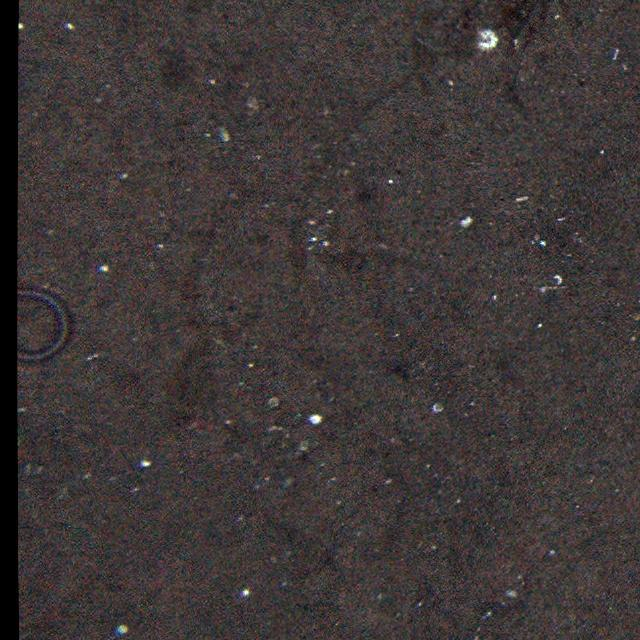eel: (15, 284, 74, 368)
